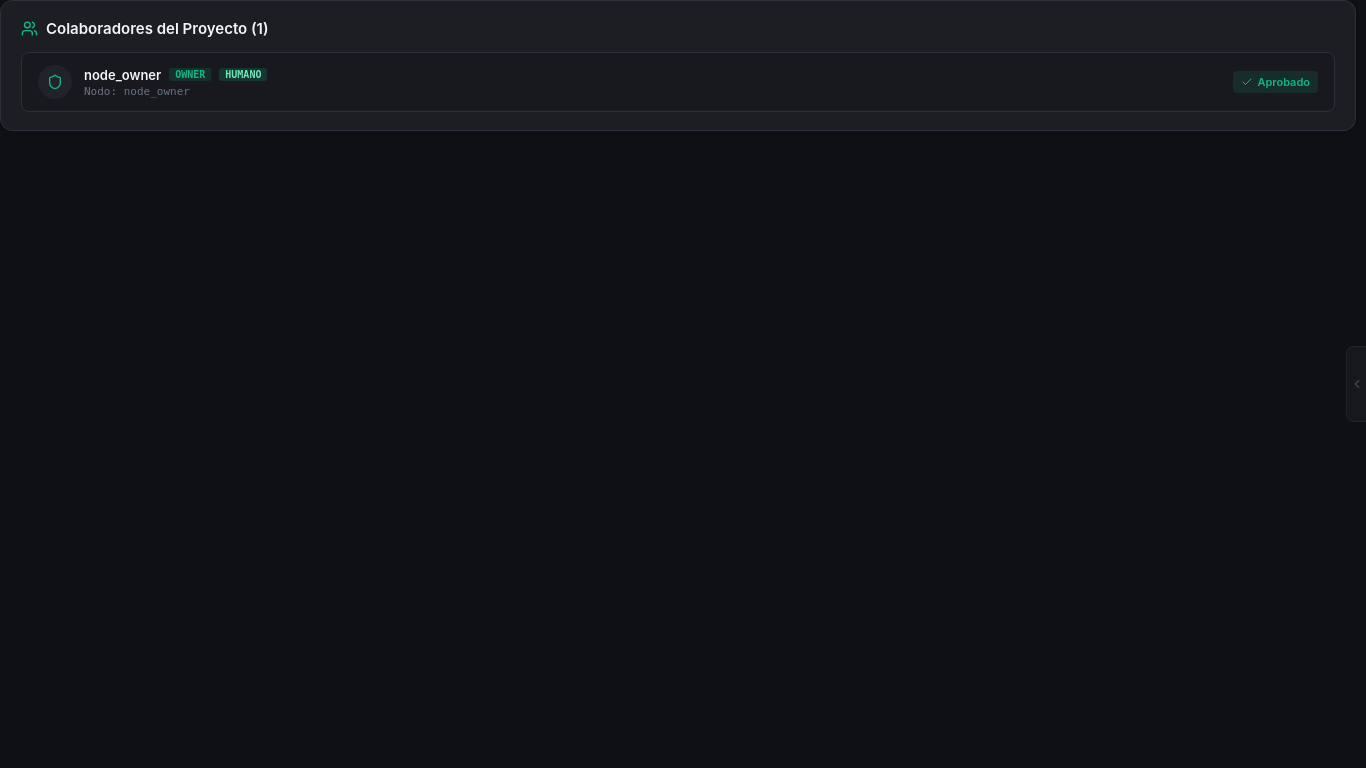
Test: CollaboratorsView - pegar código de solicitud (ingesta manual, nivel 2) › llama a ingest_join_request con el código y el project_uuid, y refresca la lista mostrando la nueva fila pendiente
Click the button with test id "view-slider-tab".
click(1356, 384)  # box [1346, 346, 1365, 422]
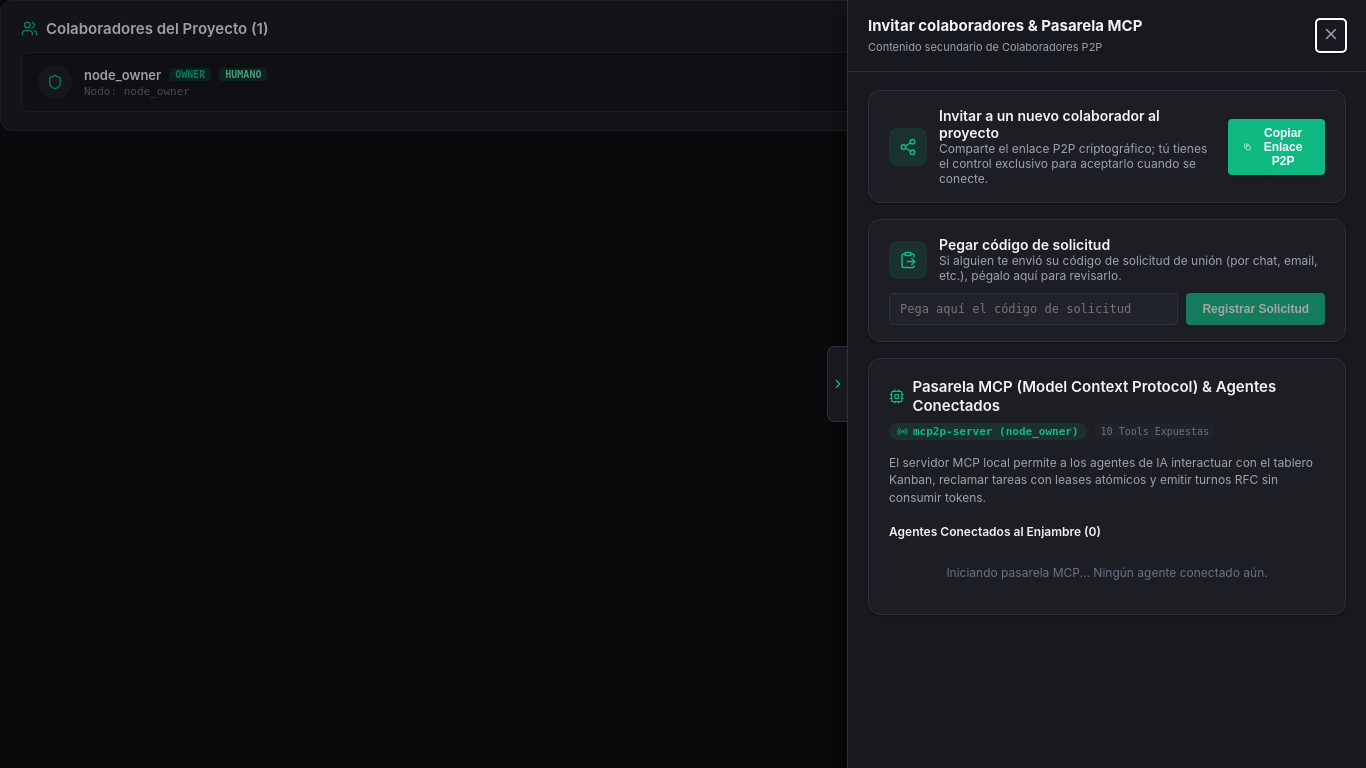
Type "  req_code_abc  " into the field named "Código de solicitud de unión".
click(1034, 309); type("  req_code_abc  ")  # box [889, 293, 1178, 325]
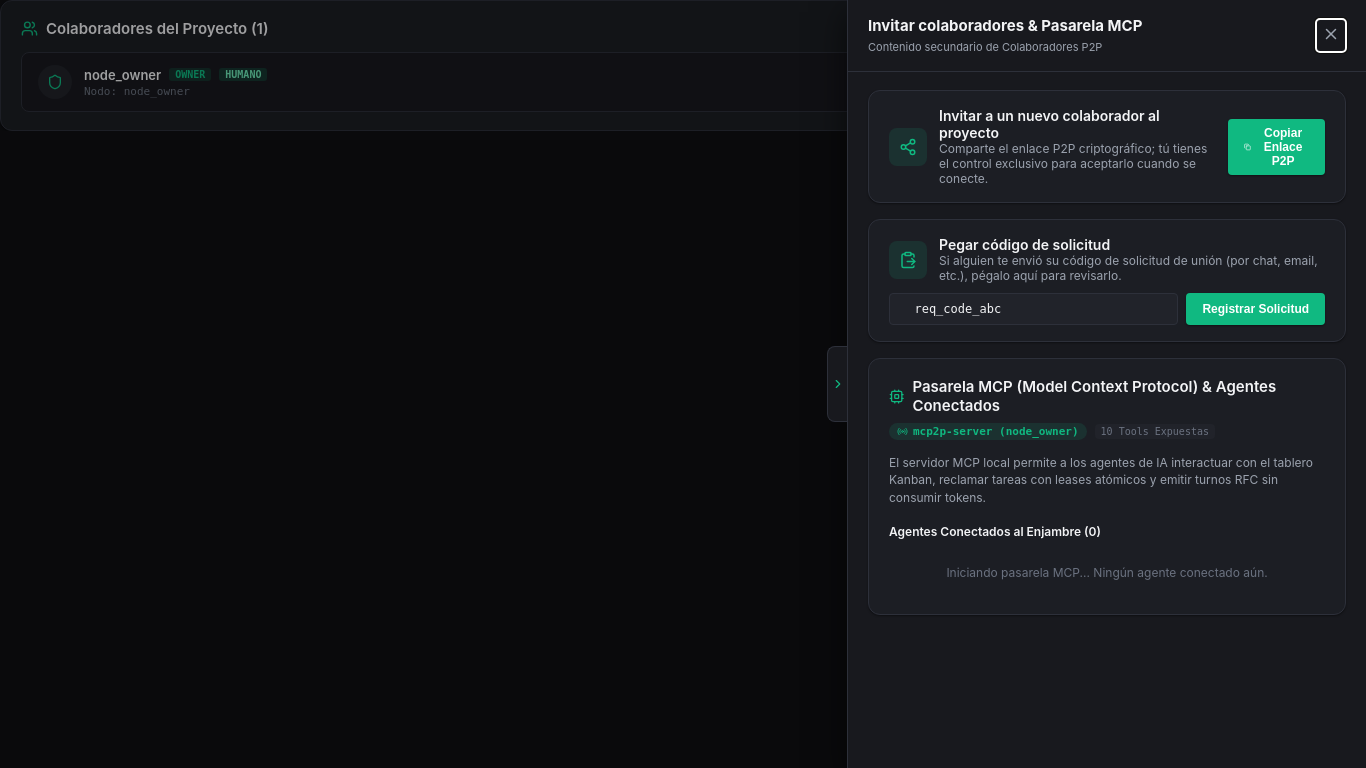
Expected: the text "Pendiente de Aprobación" is not shown
Click the button "Registrar Solicitud".
click(1256, 309)  # box [1186, 293, 1325, 325]
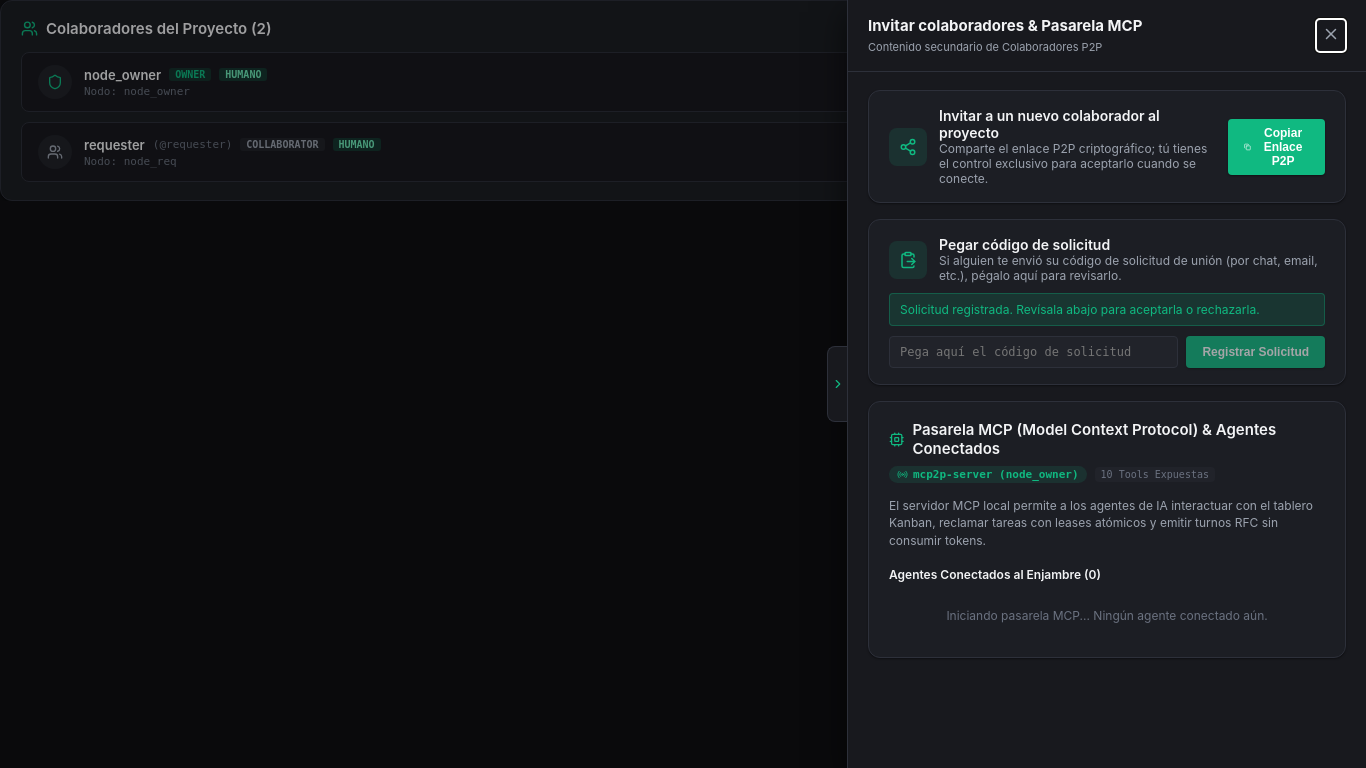
Expected: the text "Pendiente de Aprobación" is shown, [1026, 141, 1189, 163]
Result: the field named "Código de solicitud de unión" is empty at [889, 336, 1178, 368]
Result: the message with test id "ingest-request-code-message" shows "Solicitud registrada" at [900, 302, 1260, 317]
